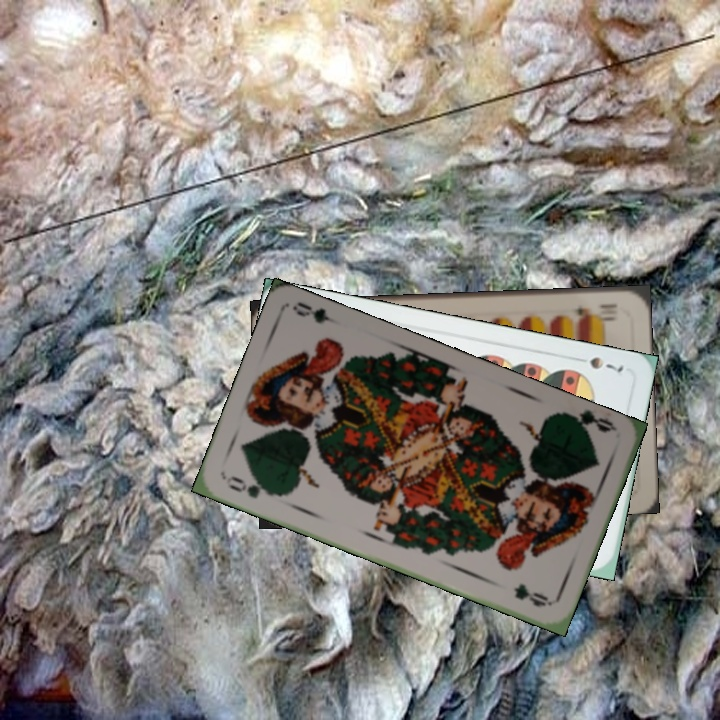E10: (573, 299, 620, 321)
GO: (560, 407, 618, 438), (222, 471, 280, 502)
S7: (570, 352, 626, 375)
